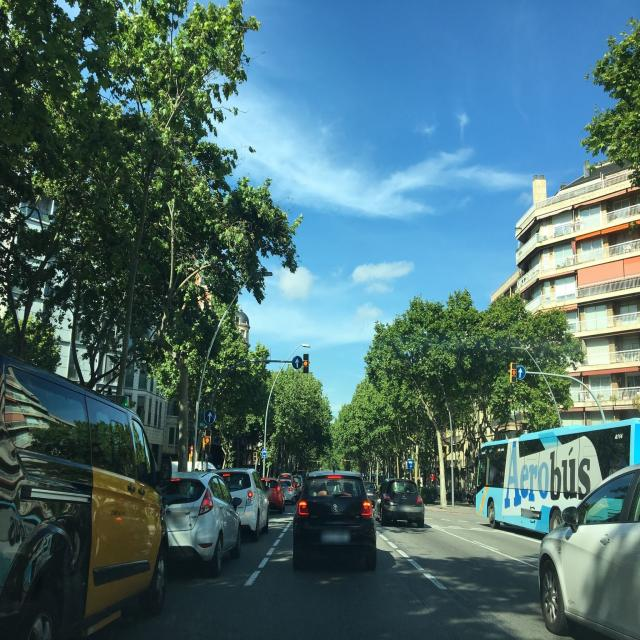car: (0, 349, 171, 638), (0, 348, 99, 640), (81, 349, 170, 639), (537, 456, 640, 640), (159, 469, 243, 576), (291, 470, 378, 570), (215, 468, 270, 541), (373, 478, 425, 528), (261, 478, 285, 514), (418, 485, 440, 505), (278, 480, 296, 504), (363, 482, 378, 502)
